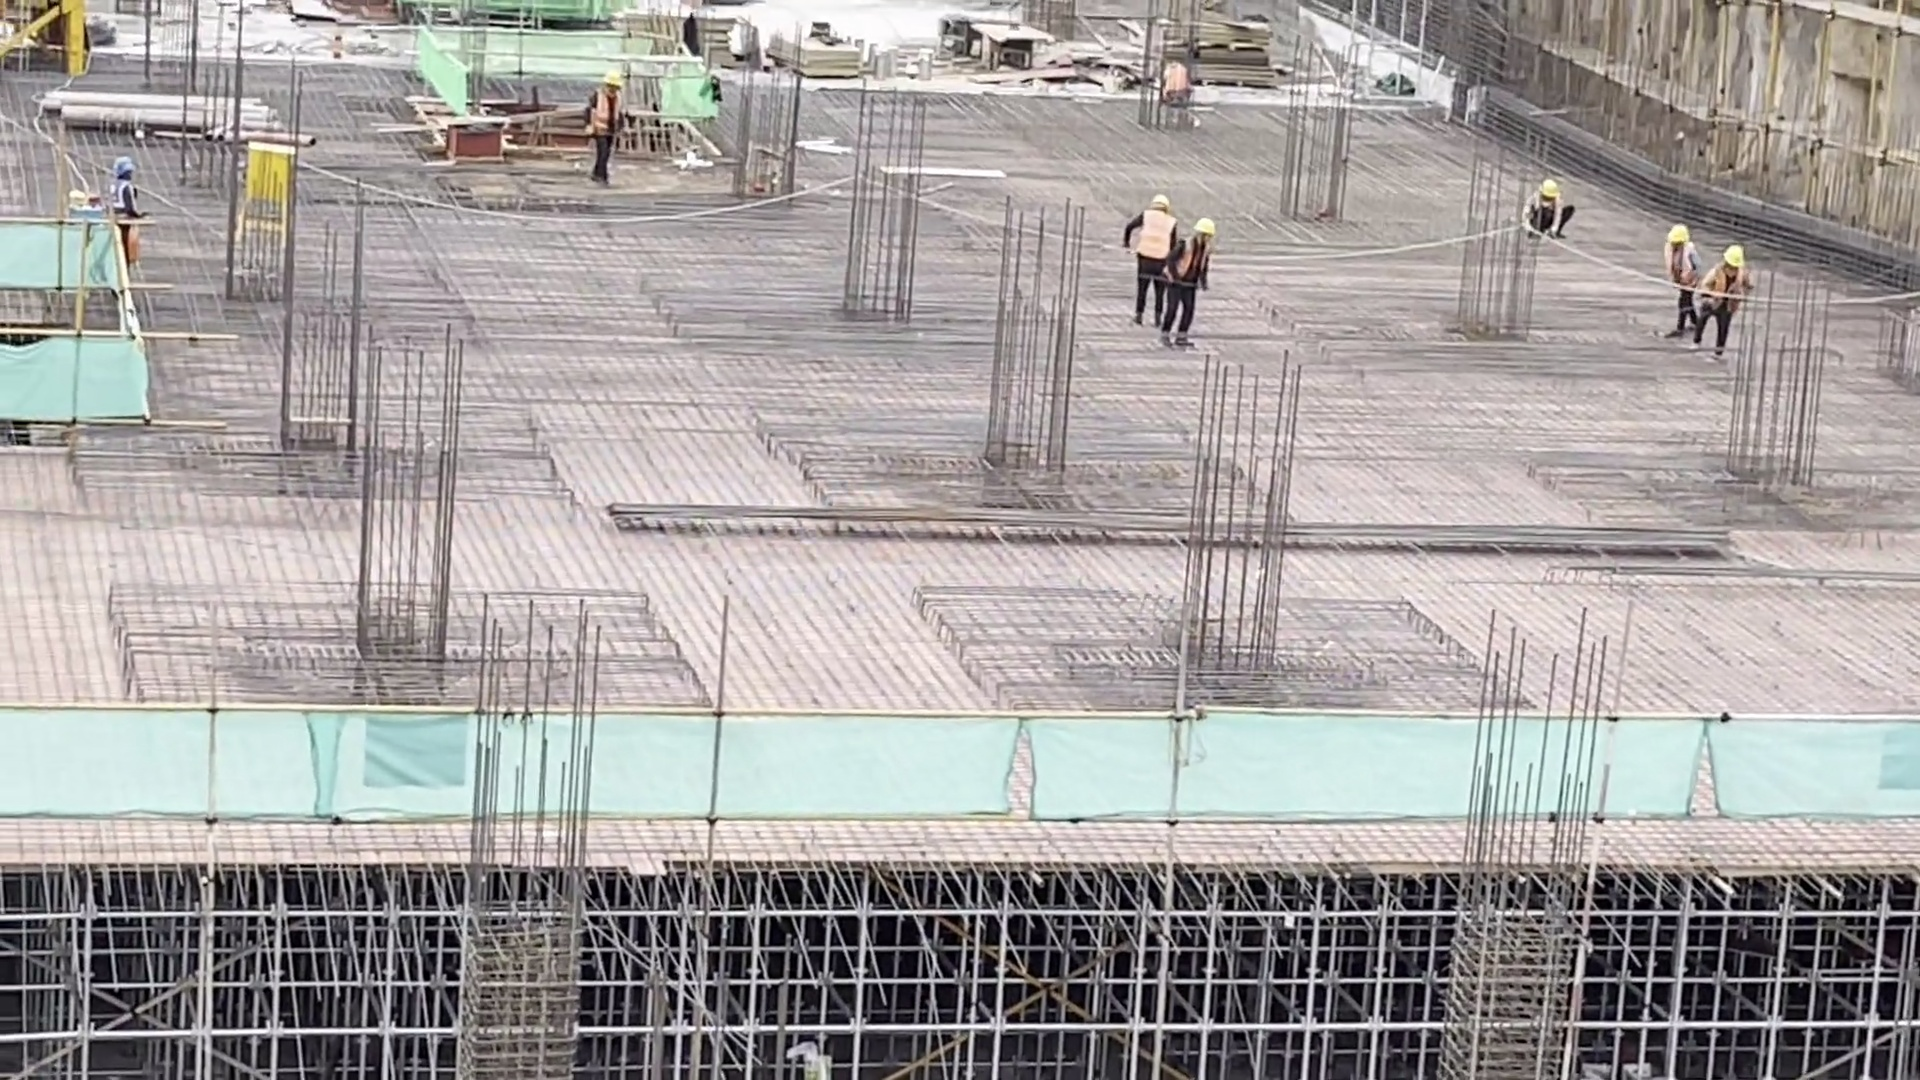helmet: (600, 61, 625, 89), (1667, 223, 1694, 245), (110, 153, 137, 174), (1536, 178, 1563, 198), (1723, 246, 1745, 268), (1192, 218, 1217, 235), (1149, 194, 1171, 207)
person: (1176, 209, 1221, 357), (1121, 191, 1169, 331), (1655, 215, 1698, 357), (586, 59, 625, 188), (1709, 242, 1746, 371), (1521, 177, 1586, 245), (101, 151, 142, 258)
vest: (1138, 207, 1172, 259), (1710, 265, 1745, 316), (1182, 238, 1209, 291), (1665, 246, 1698, 289), (595, 91, 623, 141), (104, 180, 136, 218)
